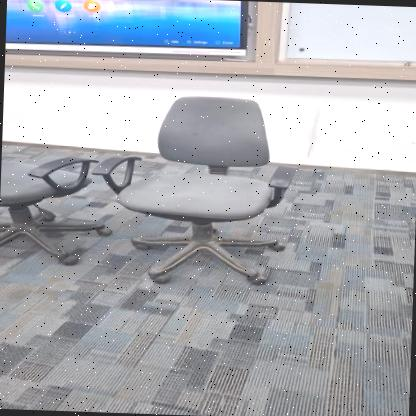chair: (89, 86, 304, 297)
